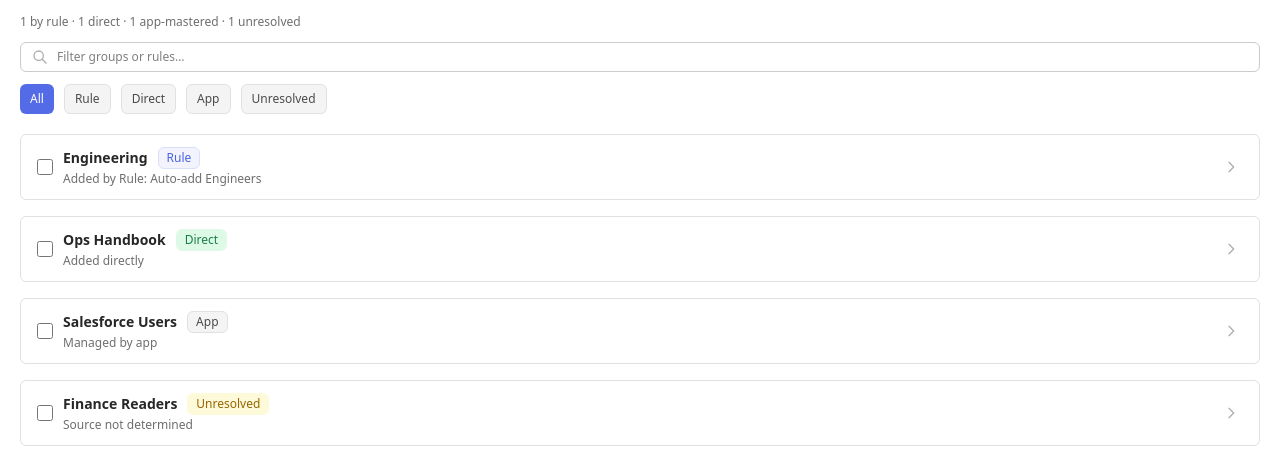
Test: GroupMembershipsList — the pane header › filters on the rule that granted the membership, not just the group name
The width and height of the screenshot is (1280, 463).
Type "auto-add" into the search field named "Filter group memberships" at (640, 57), box [20,42,1260,72]
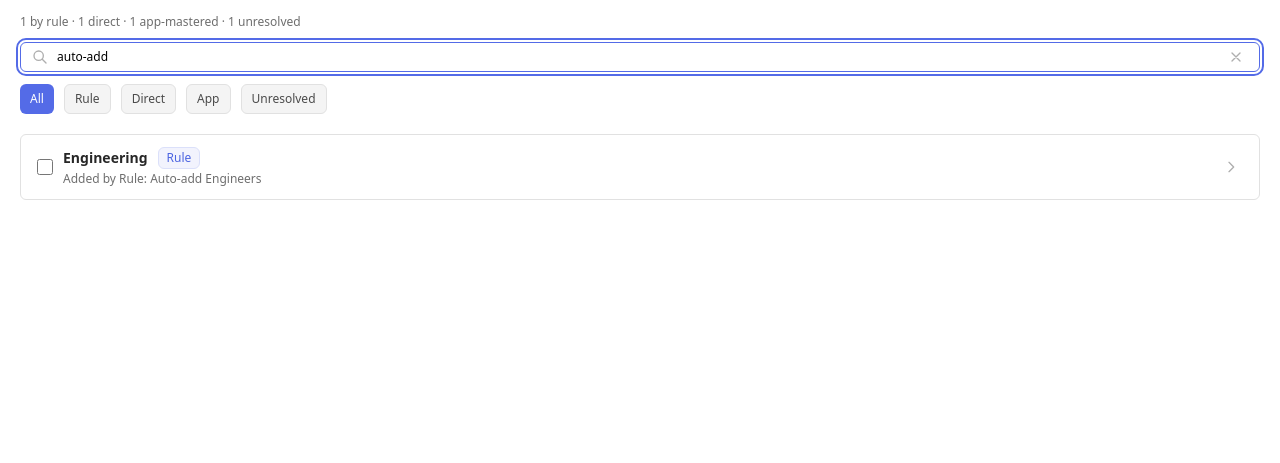
Check: the heading "Engineering" is shown, box [63,148,148,168]
Check: the heading "Ops Handbook" is gone
